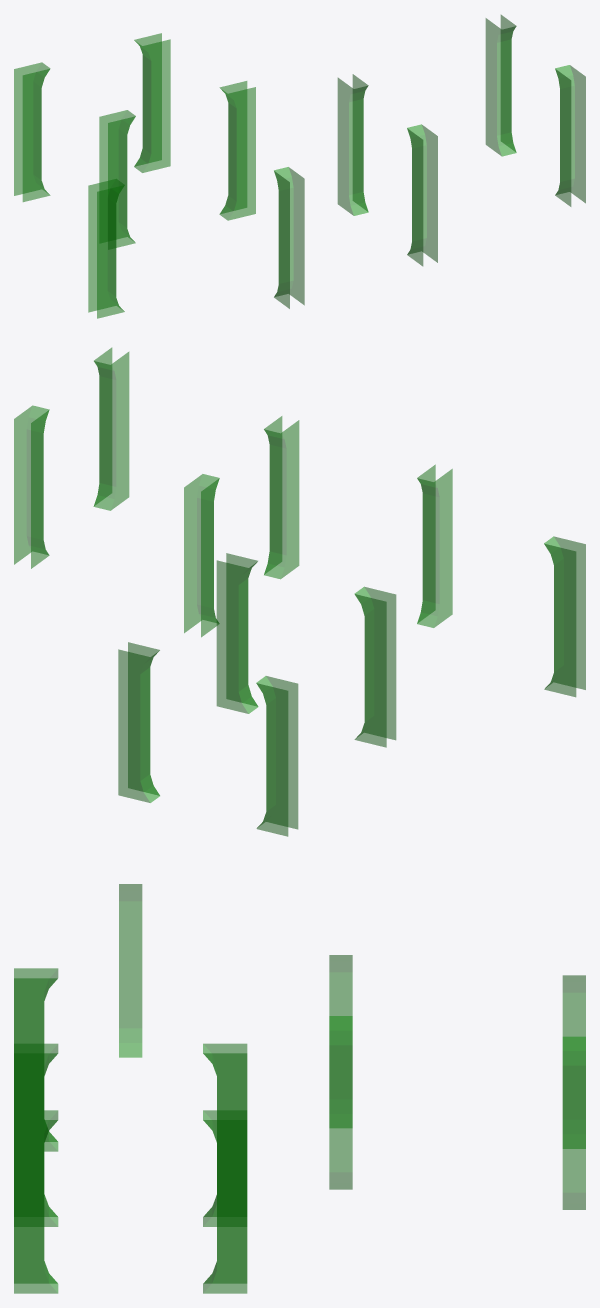
The model's file is Wall_8.obj.
The picture shows the model from 3 angles, top to bottom: view 1: azimuth 30°, elevation 25°; view 2: azimuth 150°, elevation 25°; view 3: azimuth 270°, elevation 25°; orthographic projection. The views are drawn at different scales.
Bounding box in the file's own units: 30.44 × 11.9 × 24.5.
